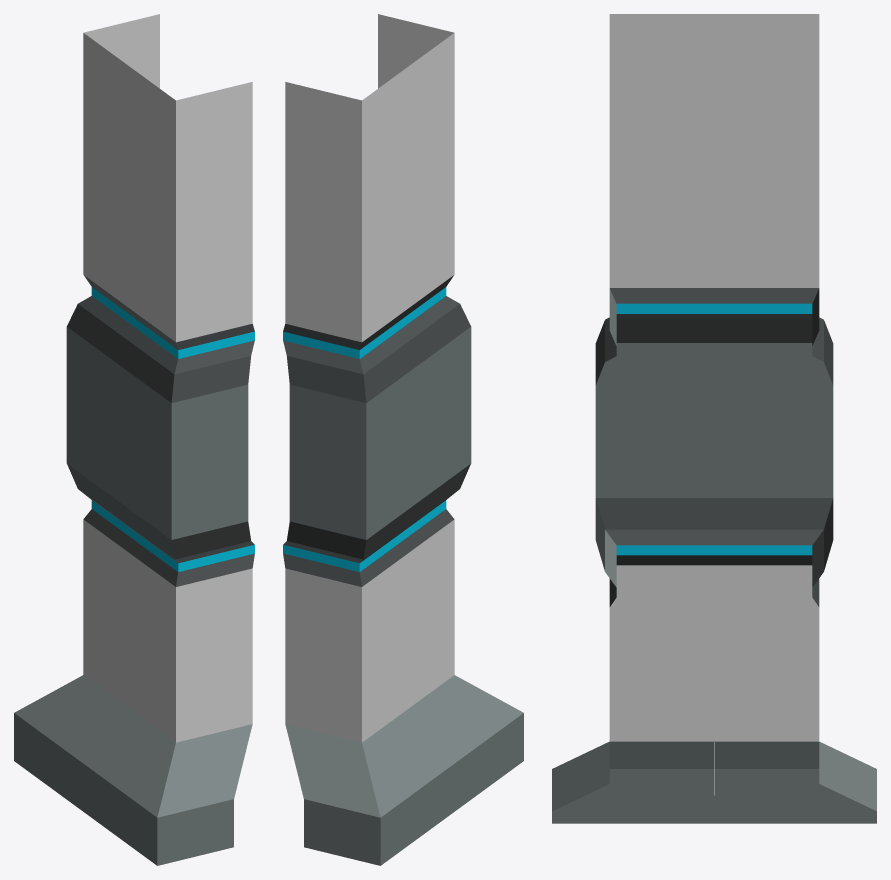
File: base_pillar_01.FBX
3 views of the same model, side by side, from view 1: azimuth 30°, elevation 25°; view 2: azimuth 150°, elevation 25°; view 3: azimuth 270°, elevation 25° (orthographic). The views are drawn at different scales.
Parts seen in each view (by area): view 1: base_pillar_01; view 2: base_pillar_01; view 3: base_pillar_01.
Boxes of the visible parts, <box> form: base_pillar_01: <box>14,14,254,865</box>; base_pillar_01: <box>283,14,523,865</box>; base_pillar_01: <box>552,14,876,823</box>.
Bounding box in the file's own units: 71.63 × 400 × 141.
